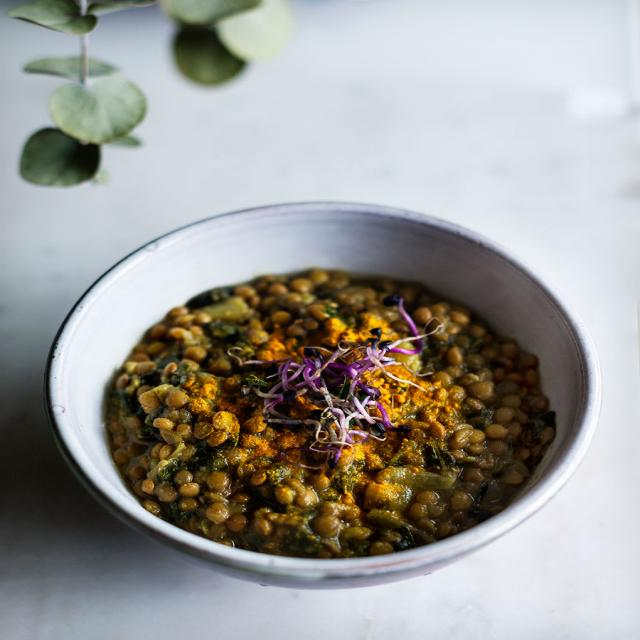lentejas: (86, 244, 562, 579)
